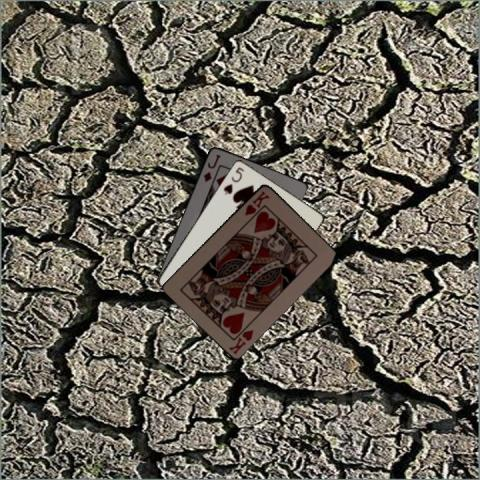5s: (220, 164, 245, 196)
Jd: (201, 152, 222, 184)
Kh: (242, 187, 271, 217), (226, 326, 255, 356)
